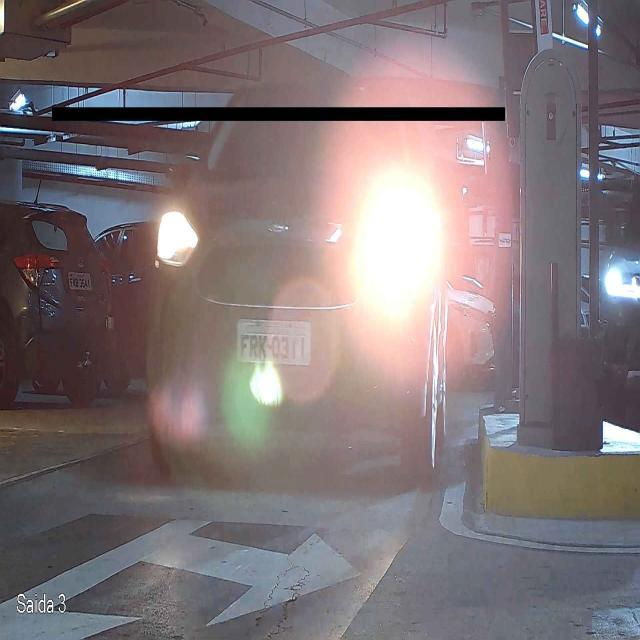old_plate: (235, 316, 314, 368)
